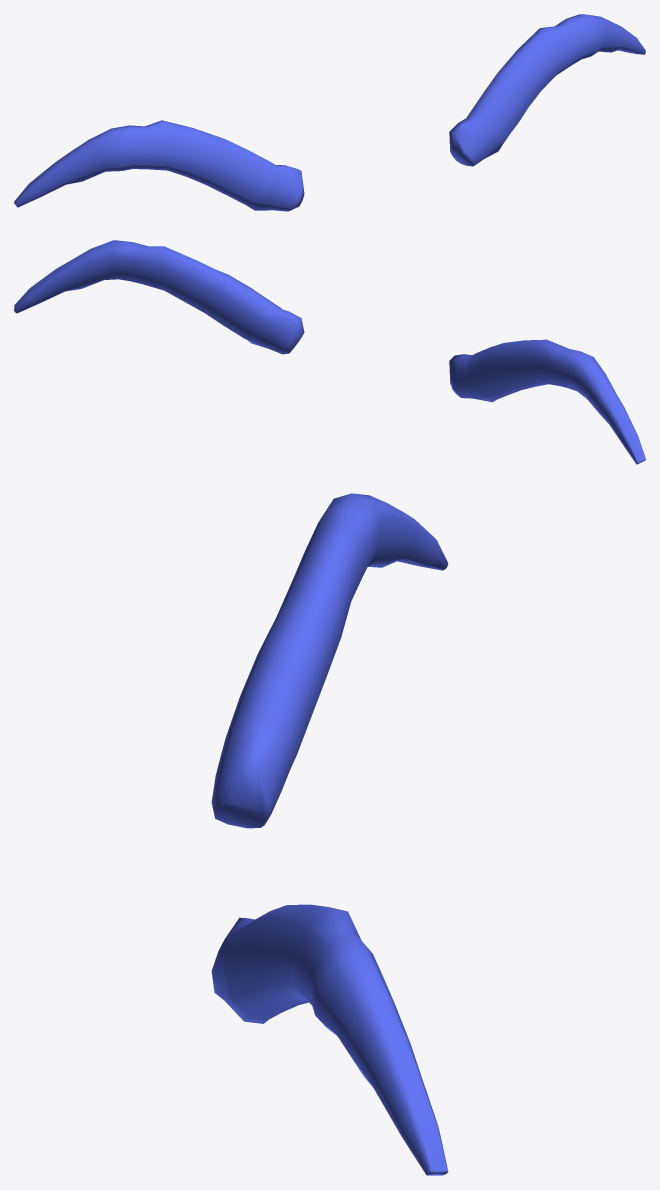
The model's file is Eyebrows_18_03.fbx.
The picture shows the model from 3 angles, top to bottom: view 1: azimuth 30°, elevation 25°; view 2: azimuth 150°, elevation 25°; view 3: azimuth 270°, elevation 25°; orthographic projection. The views are drawn at different scales.
Visible parts, largest first — view 1: Eyebrows_18_03; view 2: Eyebrows_18_03; view 3: Eyebrows_18_03.
Part boxes in pixels (box(x1,y1,x2,y2)): Eyebrows_18_03: box(14, 14, 645, 211); Eyebrows_18_03: box(14, 240, 645, 464); Eyebrows_18_03: box(211, 493, 448, 1175).
Size of the model in its own units: 18.22 by 2.68 by 2.96.
